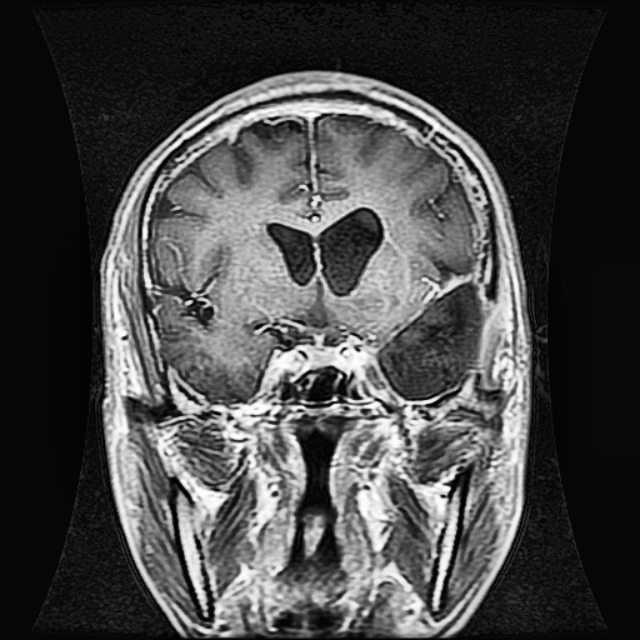Meningioma: (377, 265, 498, 403)
